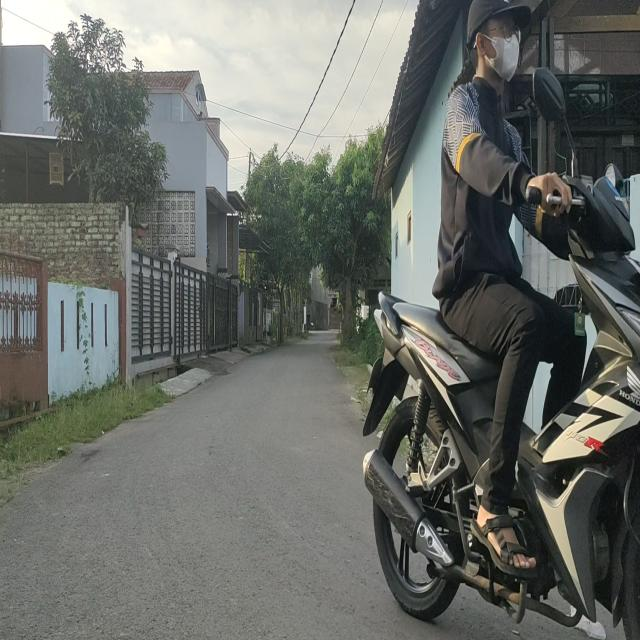no-helmet: (466, 0, 526, 90)
